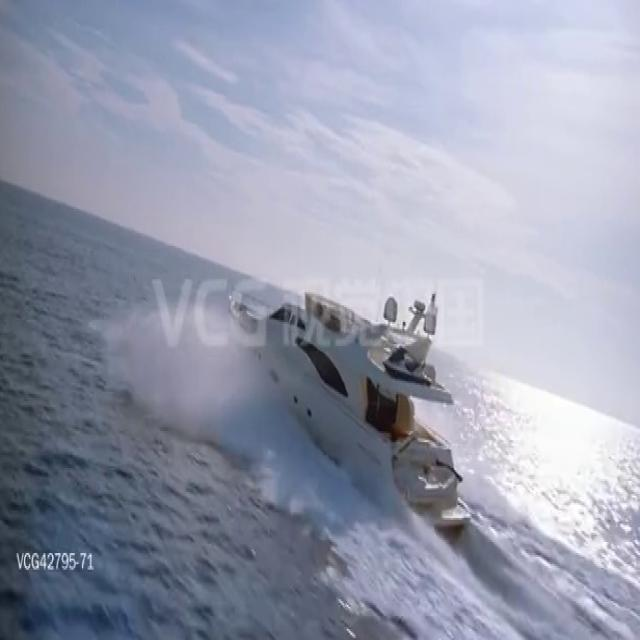houseboat: (227, 276, 475, 536)
